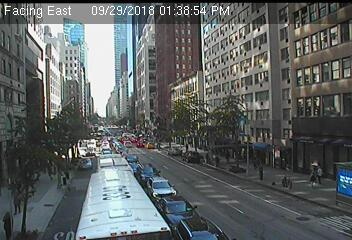car: (77, 171, 171, 240), (154, 197, 200, 229), (95, 154, 134, 189), (174, 217, 227, 240), (146, 176, 175, 202), (135, 164, 159, 185), (182, 151, 199, 163), (126, 163, 142, 173), (78, 158, 92, 169), (125, 154, 138, 165), (85, 139, 95, 151), (167, 148, 180, 156), (100, 149, 112, 154), (146, 143, 154, 148)
